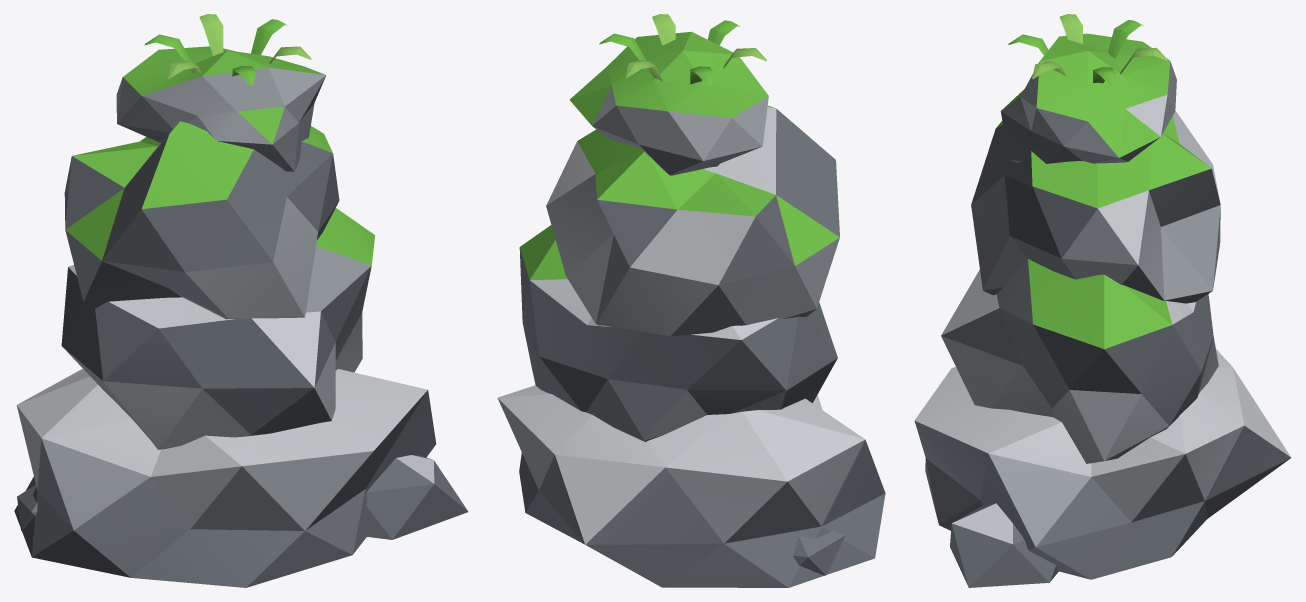
Rendered from Acantilado.fbx.
The picture shows the model from 3 angles, left to right: view 1: azimuth 30°, elevation 25°; view 2: azimuth 150°, elevation 25°; view 3: azimuth 270°, elevation 25°; orthographic projection. The views are drawn at different scales.
Visible parts, largest first — view 1: Acantilado; view 2: Acantilado; view 3: Acantilado.
Part boxes in pixels (<box>): Acantilado: <box>14,14,468,587</box>; Acantilado: <box>497,14,885,587</box>; Acantilado: <box>914,14,1291,587</box>.
Size of the model in its own units: 13.01 by 15.5 by 11.54.
Materials: 1 (1 with a texture image).
